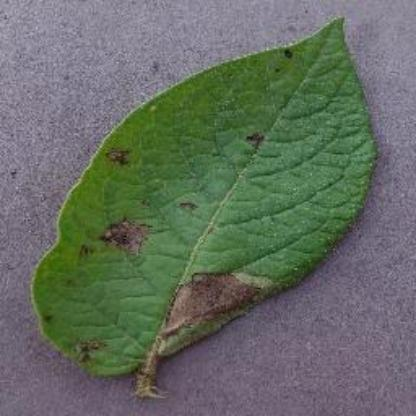Late-Blight: (32, 9, 382, 410)
